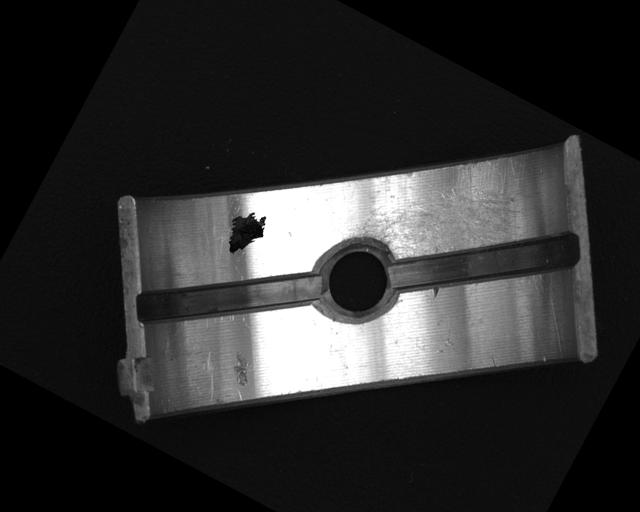blot: (216, 202, 272, 264)
bruise: (220, 347, 260, 389), (427, 284, 442, 300)
gap: (381, 166, 586, 357), (129, 208, 322, 386)
hole: (302, 226, 410, 334)
scratch: (347, 121, 542, 310)
